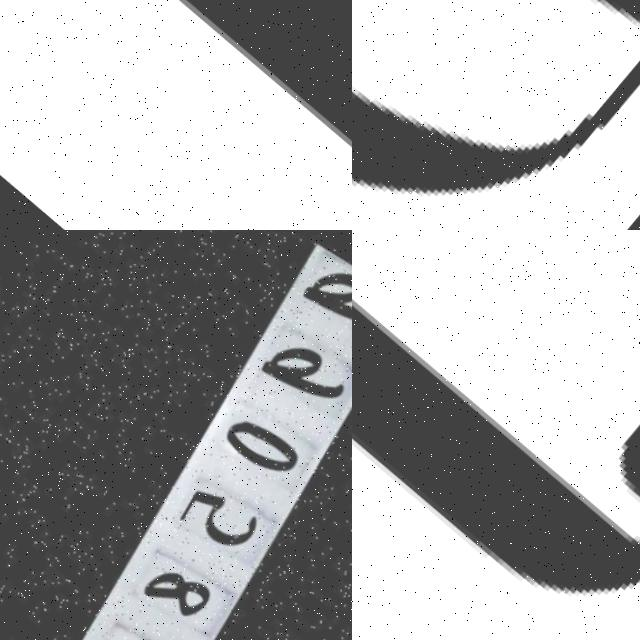0: (204, 379, 321, 494)
5: (161, 451, 281, 570)
8: (125, 529, 233, 635), (83, 598, 200, 640)
9: (240, 299, 352, 425), (283, 230, 352, 349)
D: (352, 0, 640, 230)
I: (0, 0, 352, 230)
J: (352, 230, 640, 640)
